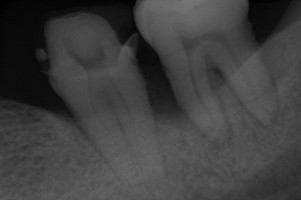Endo-Periodontal Lesion: (207, 65, 226, 90)
Furcation Involvement: (208, 120, 233, 152)
